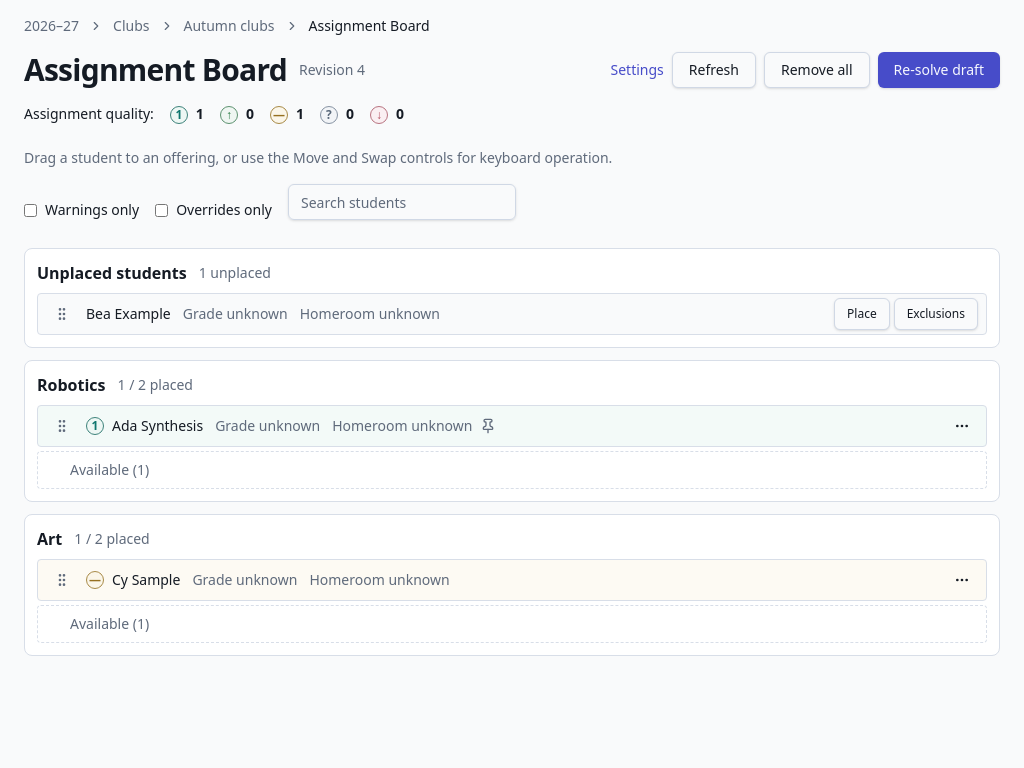
Test case: AssignmentBoardPage › removes Cy Sample to unplaced, even if pinned
The image size is (1024, 768).
Click the button named "Actions for Cy Sample" at coordinates (962, 580), box [946,564,978,596]
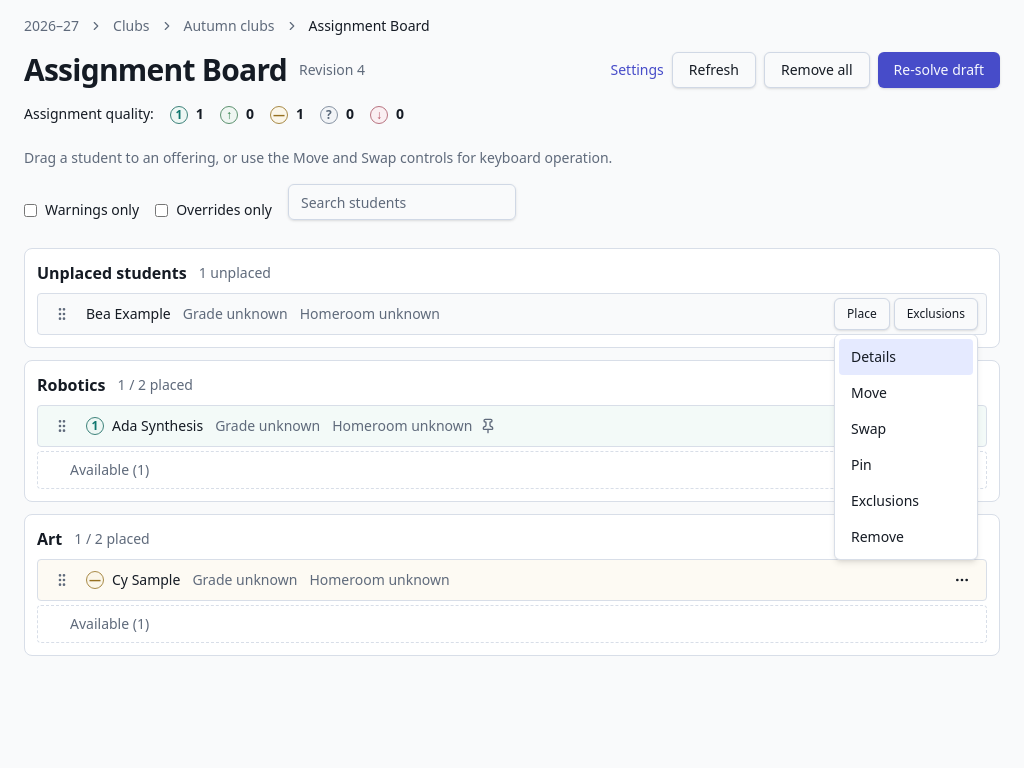
Click the menu item "Remove" at coordinates (877, 536), box [851,527,904,546]
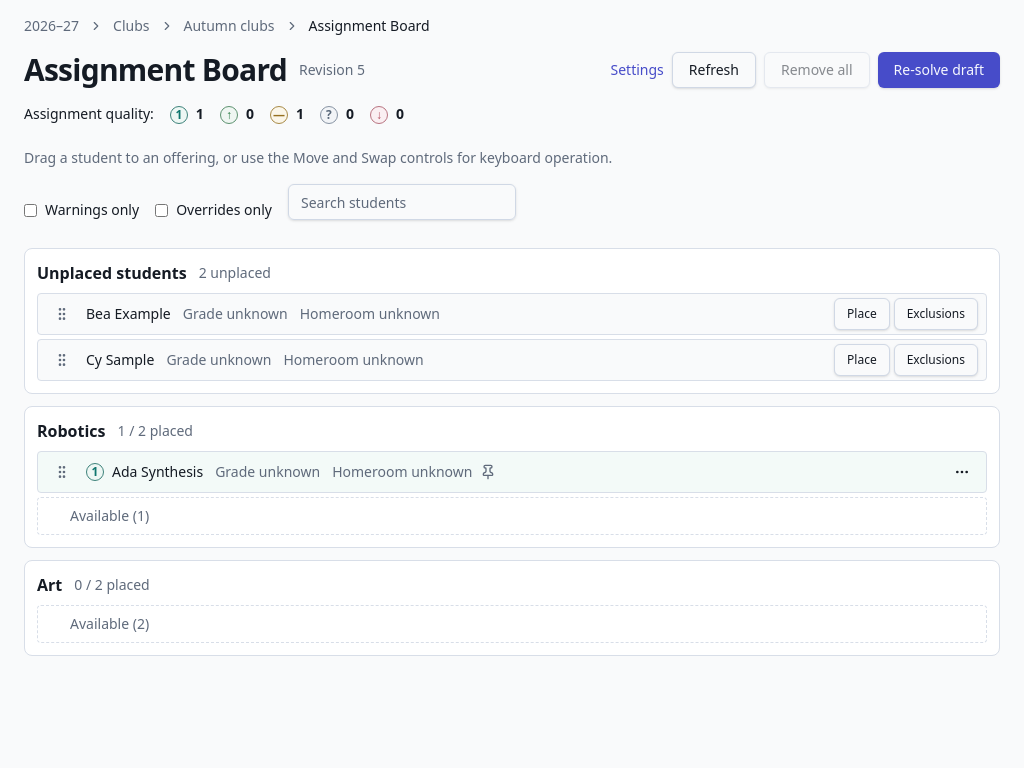
Check: the text "Cy Sample" is shown, box [86,350,154,370]
Check: the text "Revision 5" is shown, box [299,60,365,80]
